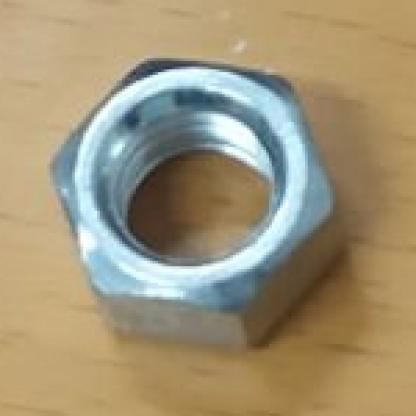FOD: (30, 36, 364, 372)
